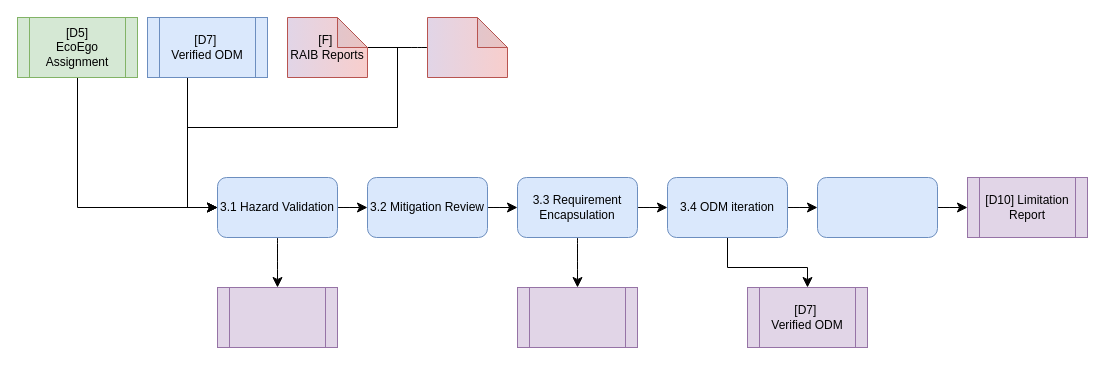
This 1105x365 diagram has some shape labels left out. Here are the shapes that lost their labels. From the top down, the centre of each, then its label:
(x=467, y=47): [G] Interviews
(x=877, y=207): 3.5 Requirement Assurance
(x=277, y=317): [D8] Hazard Register
(x=577, y=317): [D9] Assurance Traceability Matrix
